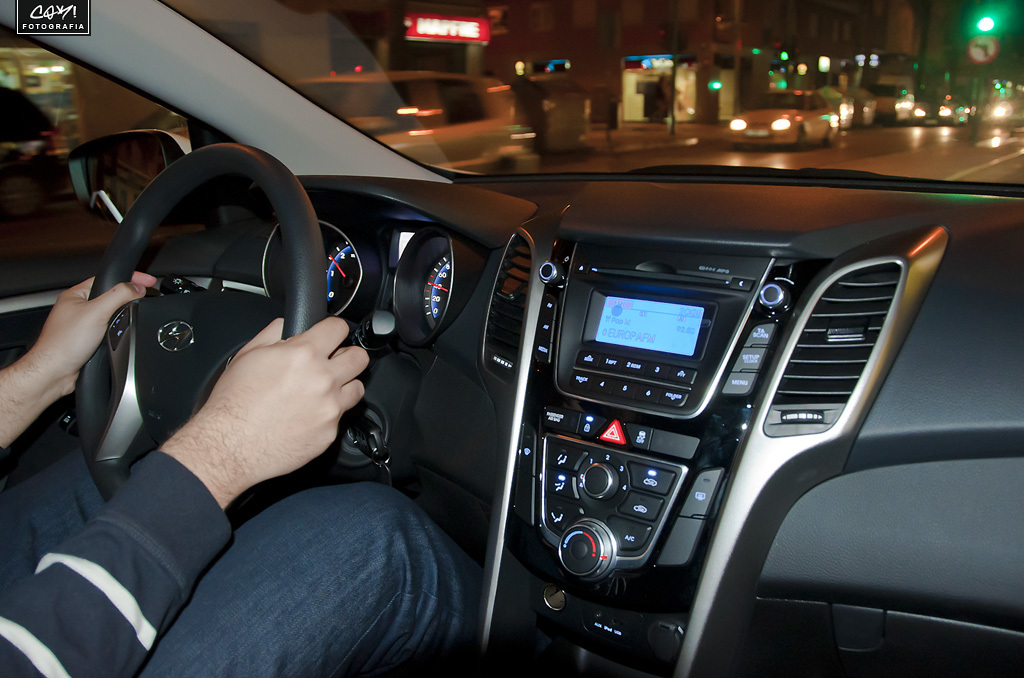Car: (0, 0, 1022, 676), (277, 69, 531, 170), (727, 73, 1022, 150)
